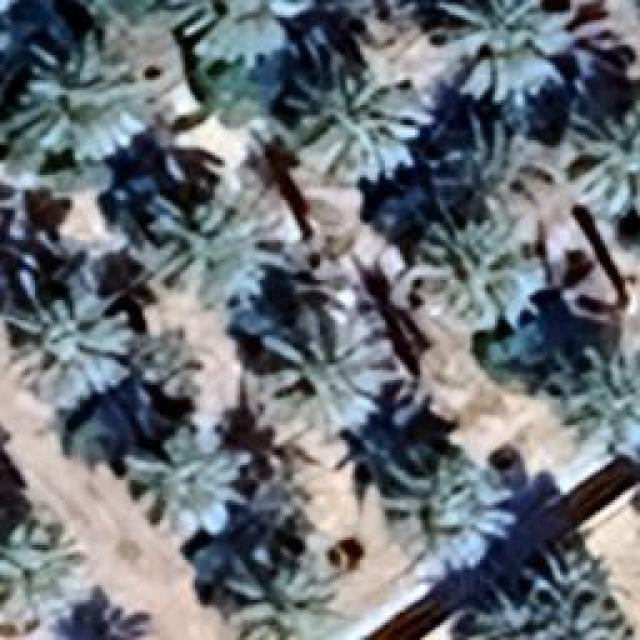PalmTree: (245, 298, 400, 452), (36, 119, 88, 576), (140, 170, 298, 308), (9, 32, 162, 166), (375, 444, 520, 578), (282, 72, 436, 190), (4, 282, 138, 410), (410, 212, 540, 330), (437, 0, 577, 102), (125, 425, 247, 540), (222, 544, 350, 638), (550, 340, 638, 458), (162, 0, 308, 65), (512, 555, 616, 640), (564, 105, 638, 220), (442, 114, 522, 202), (463, 588, 567, 640), (47, 599, 157, 640), (60, 0, 166, 36), (311, 0, 426, 29), (88, 99, 234, 119)
